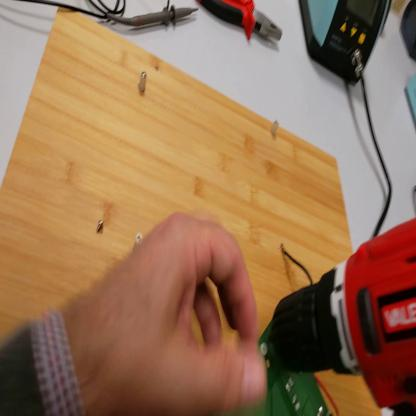electric screwdriver: (270, 218, 415, 414)
hand: (80, 207, 266, 415)
low voltage board: (214, 327, 334, 416)
oscilloscope probe tip: (119, 7, 200, 29)
pliers: (205, 2, 285, 51)
socket: (401, 1, 416, 63), (380, 2, 394, 38)
welder base: (407, 68, 416, 127)
welder station: (301, 3, 391, 88)
working area: (2, 3, 383, 413)
